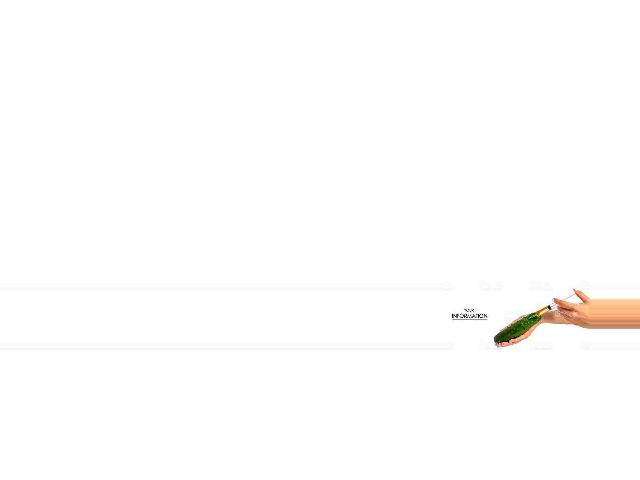cucumber: (494, 312, 541, 343)
